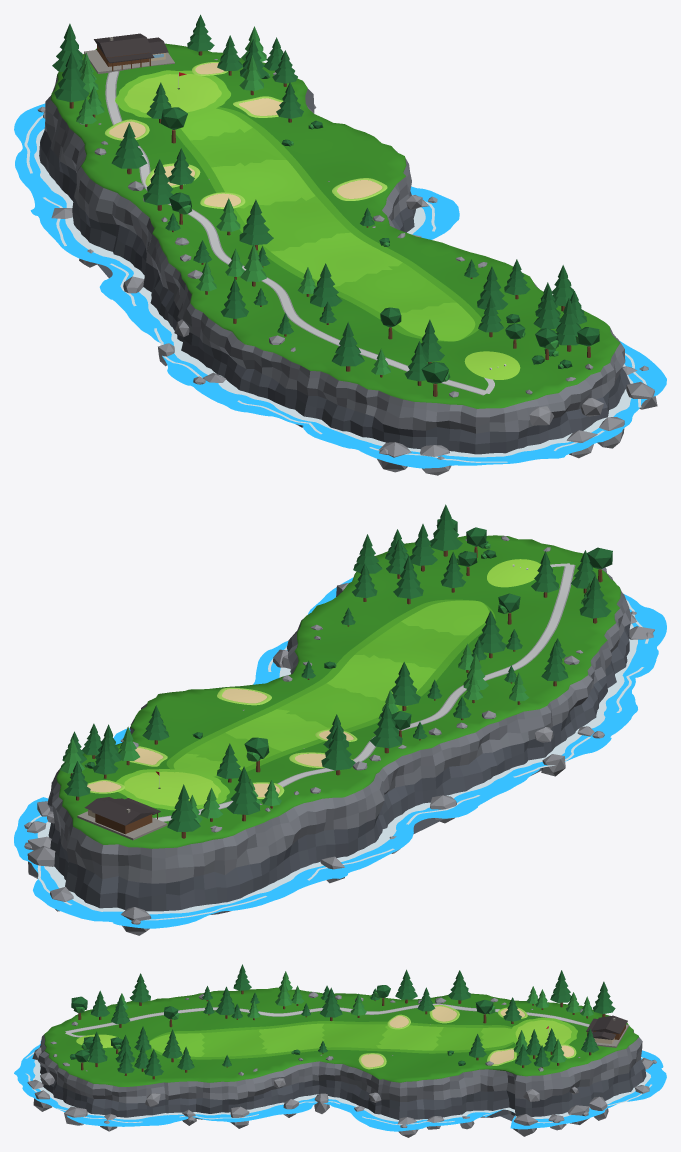
File: hole_07.fbx
3 renders of one model, top to bottom at view 1: azimuth 30°, elevation 25°; view 2: azimuth 150°, elevation 25°; view 3: azimuth 270°, elevation 25°, orthographic. The views are drawn at different scales.
Parts seen in each view (by area): view 1: TERRAIN_ISLAND, FAIRWAY, WATER_SHALLOW, WATER_FOAM, FAIRWAY_FIRSTCUT, GREEN, CLUBHOUSE, CART_PATH, WATER_FOAM_CREST, TEE_BOX, GREEN_APRON, CART_PATH_EDGE (+10 smaller); view 2: TERRAIN_ISLAND, FAIRWAY, WATER_SHALLOW, WATER_FOAM, FAIRWAY_FIRSTCUT, CLUBHOUSE, GREEN, CART_PATH, WATER_FOAM_CREST, TEE_BOX, GREEN_APRON, CART_PATH_EDGE (+11 smaller); view 3: TERRAIN_ISLAND, FAIRWAY, WATER_SHALLOW, FAIRWAY_FIRSTCUT, WATER_FOAM, CART_PATH, CLUBHOUSE, GREEN, CART_PATH_EDGE, WATER_FOAM_CREST, GREEN_APRON, TREE_PINE_LARGE.017 (+18 smaller).
Part boxes in pixels (<box>): TERRAIN_ISLAND: <box>39,43,630,454</box>; FAIRWAY: <box>180,108,475,341</box>; WATER_SHALLOW: <box>14,103,666,468</box>; WATER_FOAM: <box>34,128,633,457</box>; FAIRWAY_FIRSTCUT: <box>175,107,481,341</box>; GREEN: <box>124,74,221,113</box>; CLUBHOUSE: <box>84,33,174,73</box>; CART_PATH: <box>106,71,488,394</box>; WATER_FOAM_CREST: <box>24,115,646,462</box>; TEE_BOX: <box>464,351,520,379</box>; GREEN_APRON: <box>115,70,230,117</box>; CART_PATH_EDGE: <box>105,71,484,395</box>; TERRAIN_ISLAND: <box>47,535,630,914</box>; FAIRWAY: <box>173,600,489,776</box>; WATER_SHALLOW: <box>14,577,666,928</box>; WATER_FOAM: <box>37,623,637,914</box>; FAIRWAY_FIRSTCUT: <box>166,599,495,778</box>; CLUBHOUSE: <box>77,797,167,840</box>; GREEN: <box>124,771,220,806</box>; CART_PATH: <box>155,564,574,821</box>; WATER_FOAM_CREST: <box>30,599,648,920</box>; TEE_BOX: <box>487,559,540,587</box>; GREEN_APRON: <box>116,769,229,810</box>; CART_PATH_EDGE: <box>154,565,575,821</box>; TERRAIN_ISLAND: <box>38,987,646,1121</box>; FAIRWAY: <box>149,1023,512,1056</box>; WATER_SHALLOW: <box>14,1040,666,1131</box>; FAIRWAY_FIRSTCUT: <box>149,1021,514,1059</box>; WATER_FOAM: <box>33,1059,650,1121</box>; CART_PATH: <box>66,1004,589,1033</box>; CLUBHOUSE: <box>584,1015,628,1047</box>; GREEN: <box>515,1020,571,1047</box>; CART_PATH_EDGE: <box>65,1003,589,1033</box>; WATER_FOAM_CREST: <box>25,1052,651,1125</box>; GREEN_APRON: <box>509,1017,577,1046</box>; TREE_PINE_LARGE.017: <box>593,981,615,1017</box>.
Size of what is drawn, in the model's own units: 248 by 87.75 by 544.
